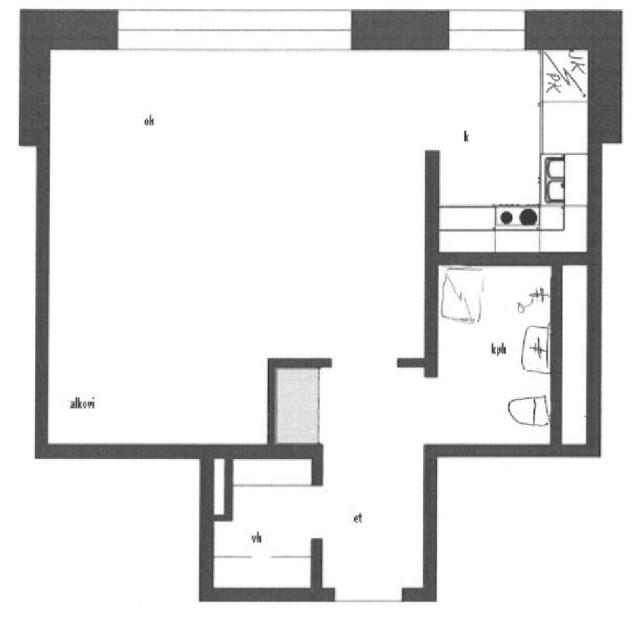window: (118, 5, 357, 52), (445, 6, 530, 56), (328, 582, 411, 610), (331, 349, 404, 375)
zone: (38, 37, 434, 451), (432, 43, 590, 250), (318, 360, 427, 593), (430, 258, 556, 455), (209, 458, 318, 598)
